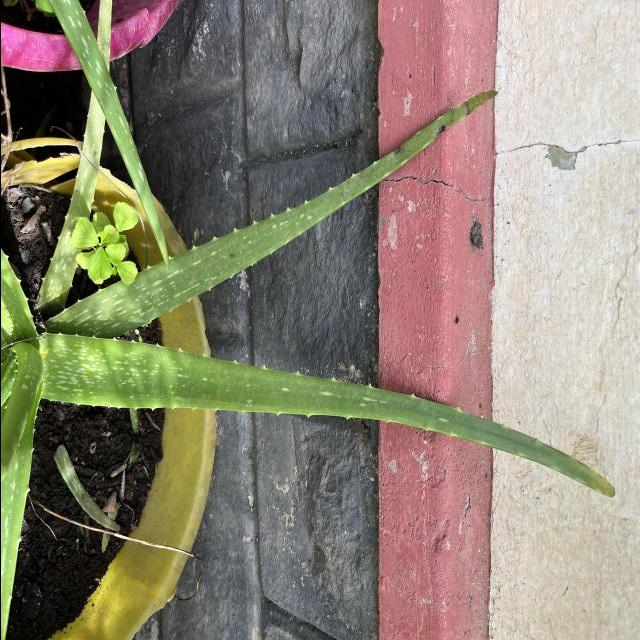Aloe vera: (29, 330, 619, 500)
